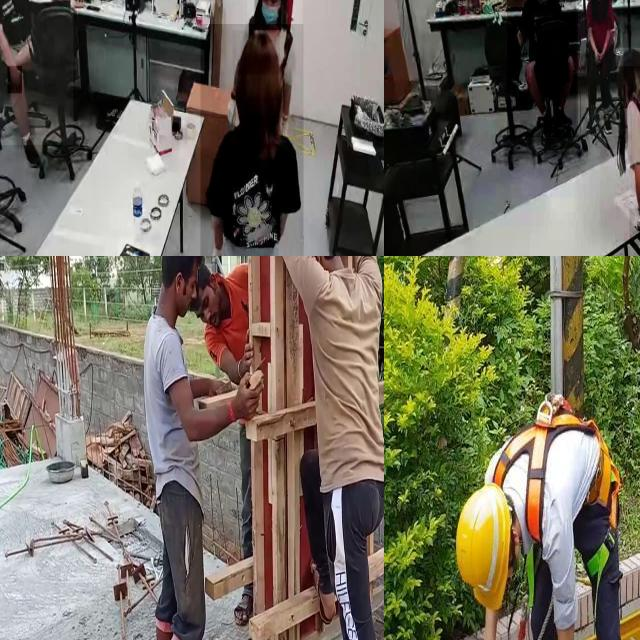Harness: (486, 392, 630, 632)
face_mask: (254, 0, 281, 30)
hand_glove: (629, 208, 640, 245)
hand_noglove: (228, 372, 264, 421), (8, 66, 22, 94), (67, 0, 86, 12), (593, 49, 601, 68), (596, 50, 602, 68)
head_nohelmet: (160, 256, 203, 323), (233, 30, 281, 76), (616, 47, 640, 66)
person: (200, 24, 303, 256), (0, 0, 74, 145), (507, 0, 578, 138), (600, 48, 640, 256), (246, 0, 303, 115), (576, 0, 623, 135)
